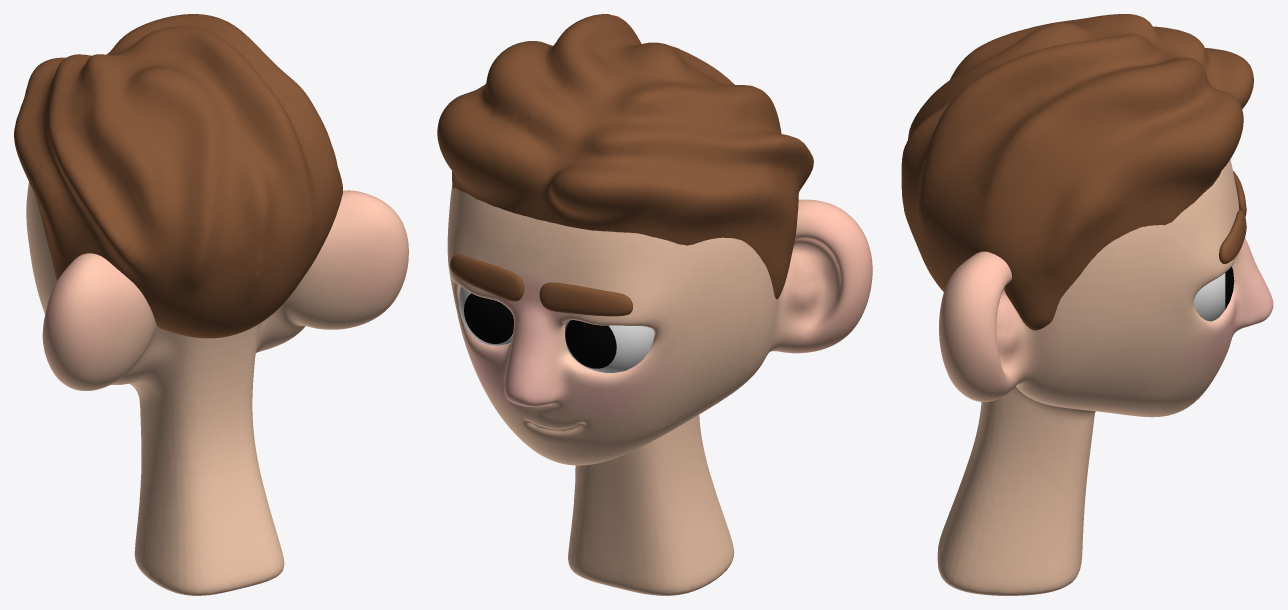
Rendered from avatar2export.opt.glb.
3 views of the same model, side by side, from view 1: azimuth 30°, elevation 25°; view 2: azimuth 150°, elevation 25°; view 3: azimuth 270°, elevation 25° (orthographic). The views are drawn at different scales.
Parts seen in each view (by area): view 1: Hair, Head; view 2: Head, Hair, Eyes, Brows; view 3: Hair, Head, Eyes, Brows.
Part boxes in pixels (x1,y1,x2,y2): Hair: (14,14,342,338); Head: (26,182,408,595); Head: (447,186,872,595); Hair: (437,14,813,299); Eyes: (458,286,654,372); Brows: (450,254,632,316); Hair: (901,14,1253,330); Head: (937,159,1273,595); Eyes: (1194,267,1234,321); Brows: (1219,171,1246,263).
Bounding box in the file's own units: 2.11 × 2.84 × 1.76.
